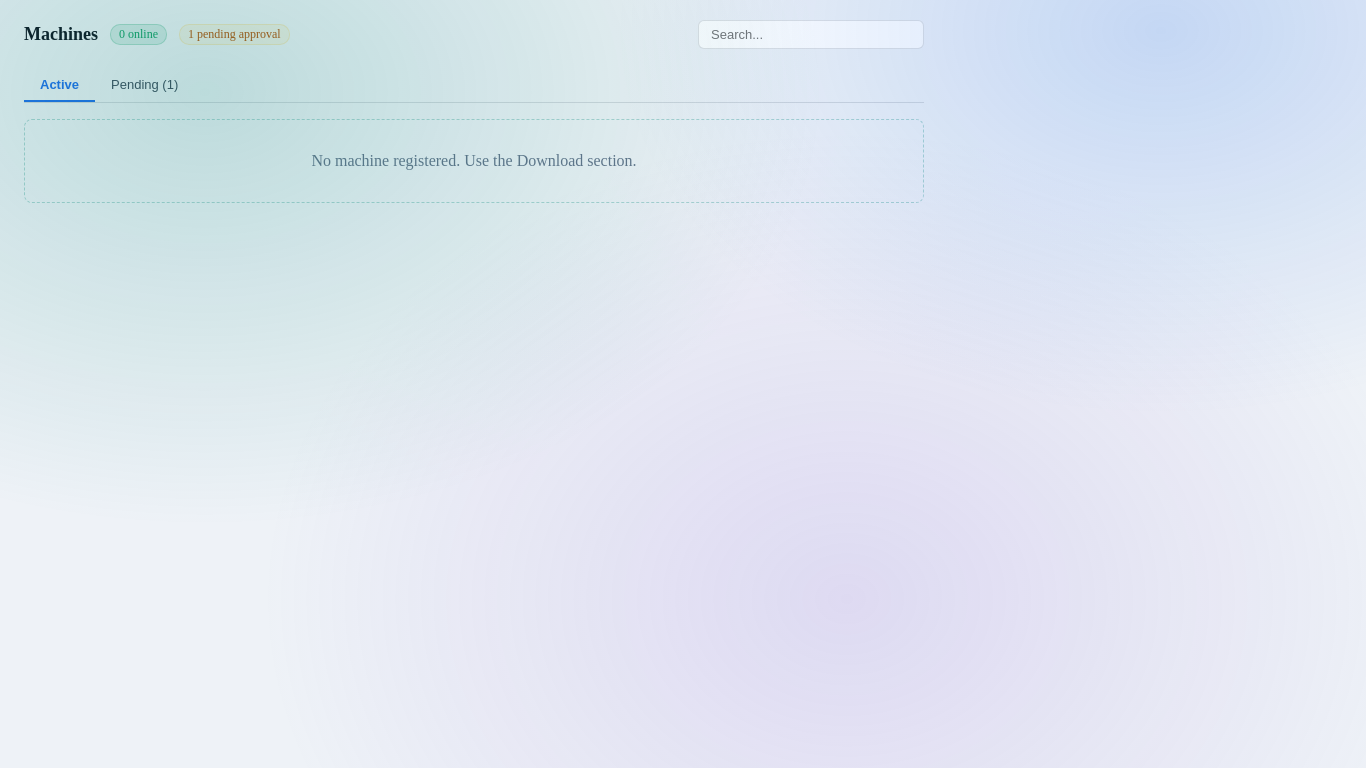
Test: MachinesPage approve/deny › shows an error toast when deny fails, instead of failing with no feedback
The image size is (1366, 768).
Click the button "Pending (1)": (145, 86) [95, 69, 194, 102]
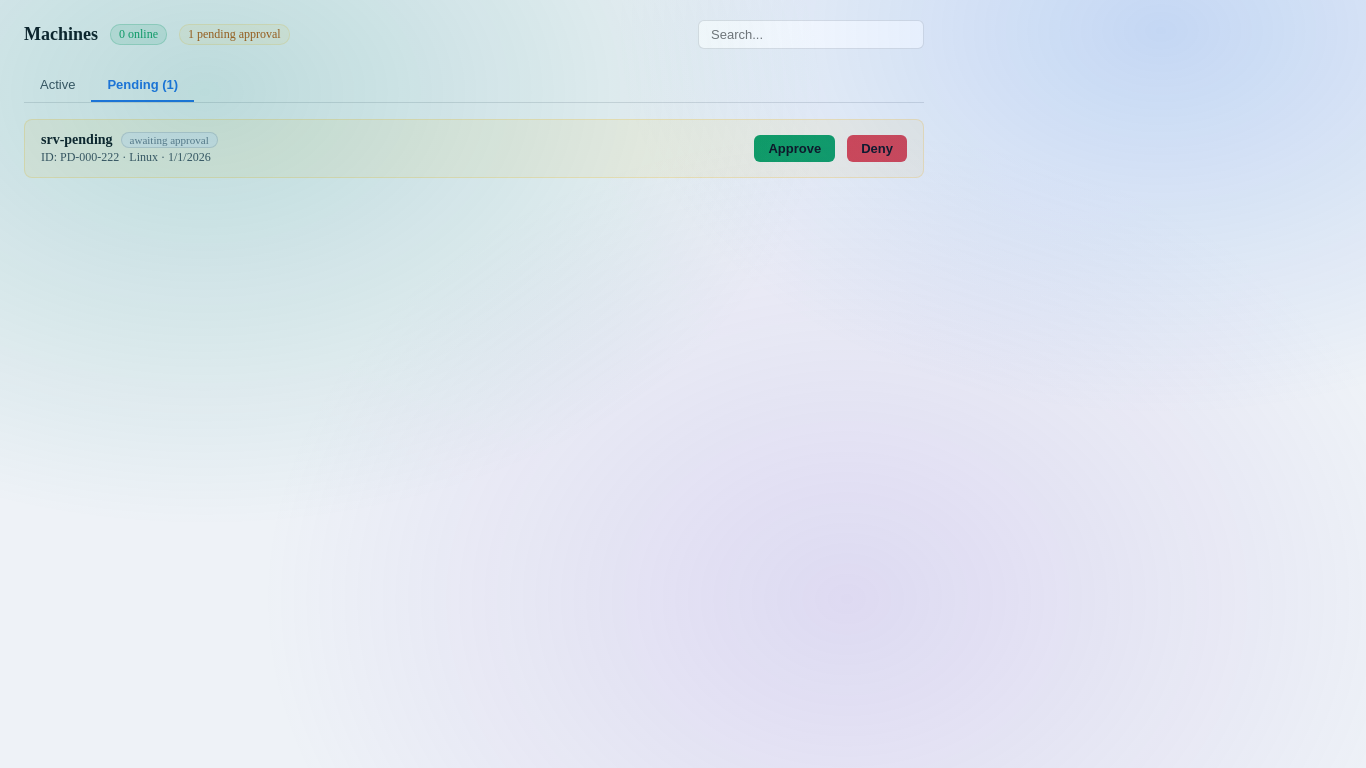
Click the button "Deny": (877, 148) [847, 135, 907, 162]
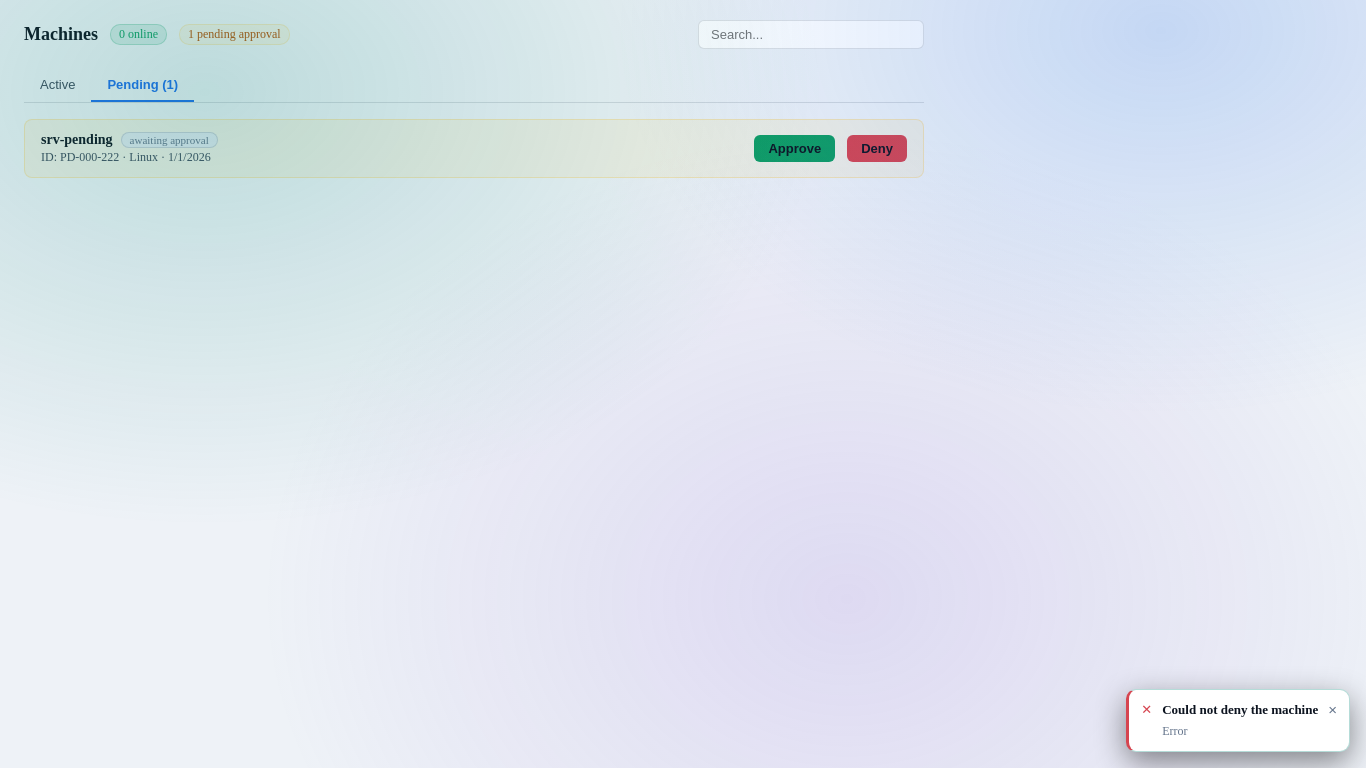
Result: the text "Could not deny the machine" is shown at [1162, 701, 1318, 720]
